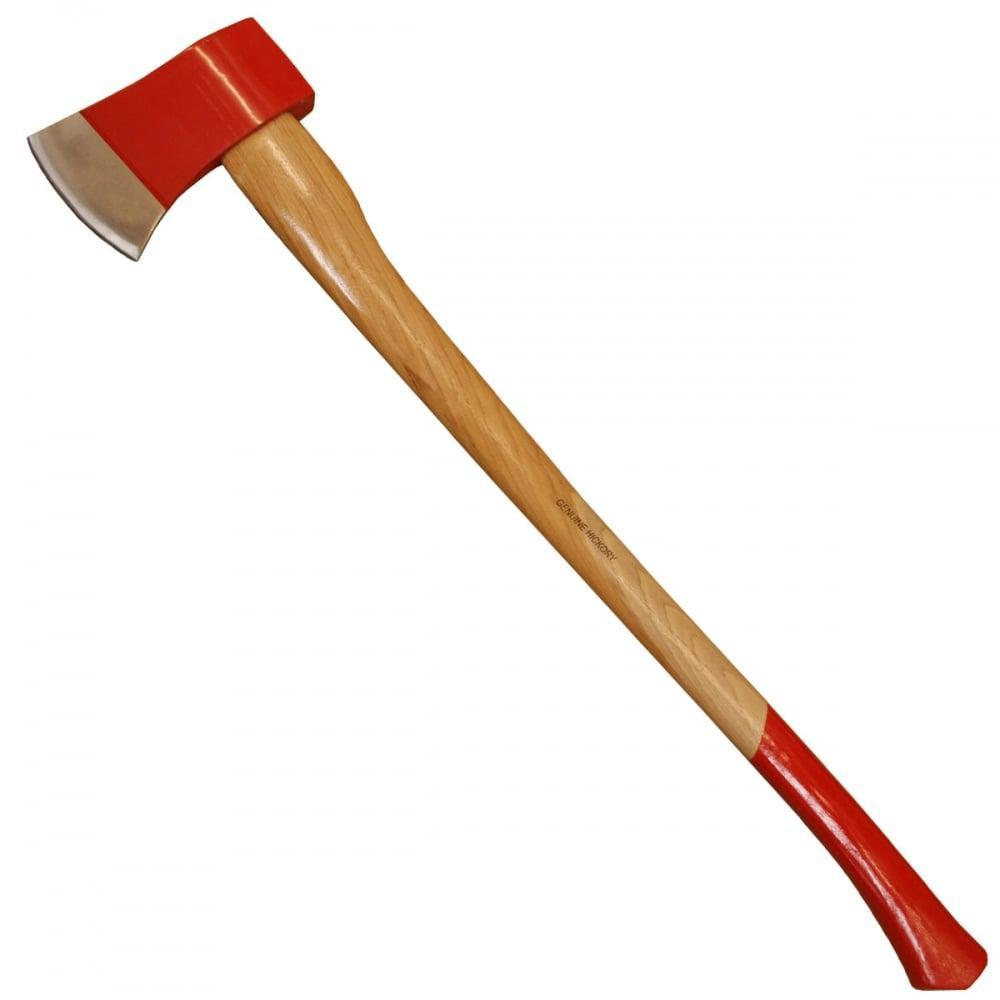foice: (988, 6, 992, 24)
